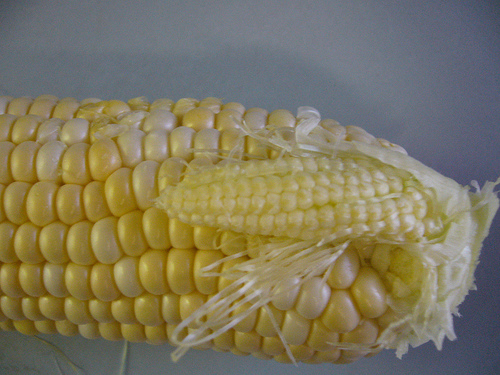corn: (0, 94, 496, 374)
